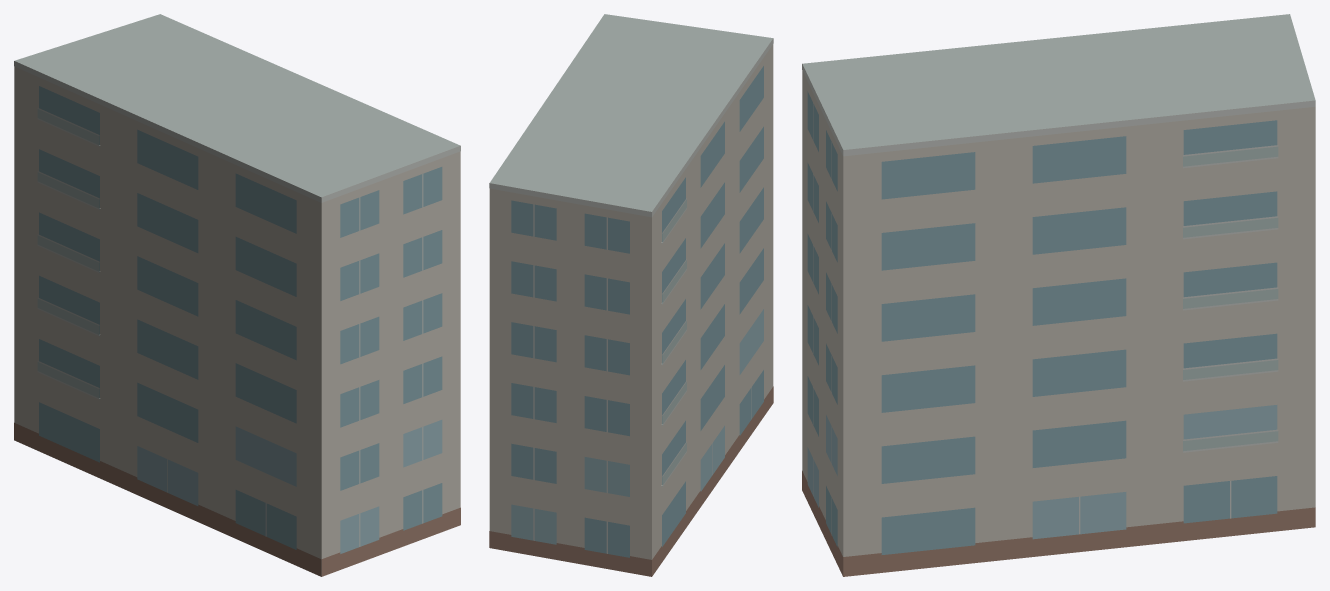
The model's file is survey-upis-32967197.glb.
3 renders of one model, left to right at view 1: azimuth 30°, elevation 25°; view 2: azimuth 150°, elevation 25°; view 3: azimuth 270°, elevation 25°, orthographic. The views are drawn at different scales.
Parts seen in each view (by area): view 1: survey-upis-32967197.tmp; view 2: survey-upis-32967197.tmp; view 3: survey-upis-32967197.tmp.
Boxes of the visible parts, x1,y1,x2,y2 form: survey-upis-32967197.tmp: [14, 14, 460, 576]; survey-upis-32967197.tmp: [489, 14, 773, 576]; survey-upis-32967197.tmp: [802, 14, 1315, 576].
Bounding box in the file's own units: 11.36 × 16.6 × 18.11.
